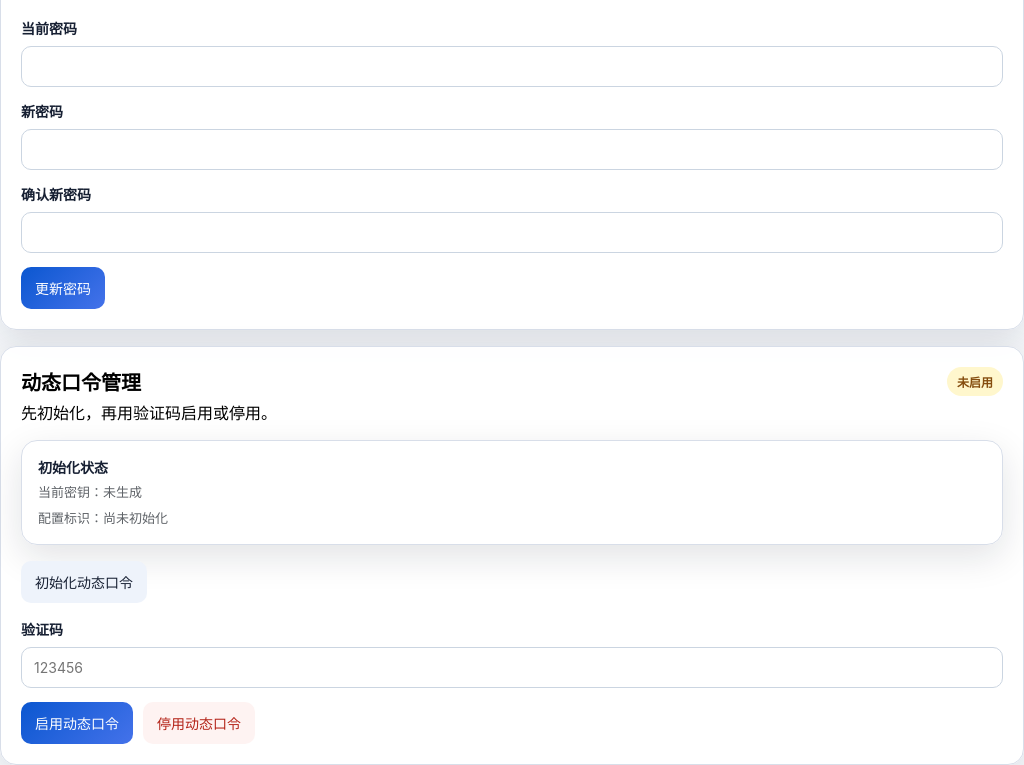
Test: AdminSecurityPage › 会通过统一弹层提交动态口令停用验证码
The width and height of the screenshot is (1024, 765).
(page scrolled)
Click the button "停用动态口令".
click(199, 723)  # box [143,702,255,744]
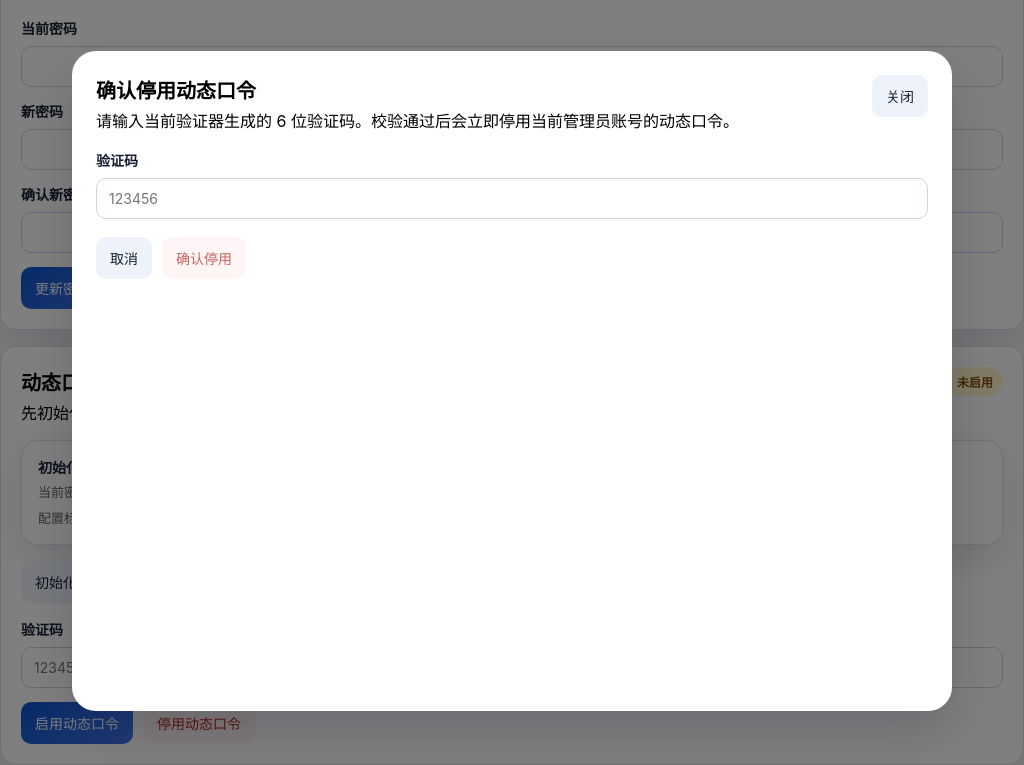
Expected: the dialog "确认停用动态口令" is shown
Type "654321" into the field with placeholder "123456".
click(512, 198); type("654321")  # box [96,178,928,219]
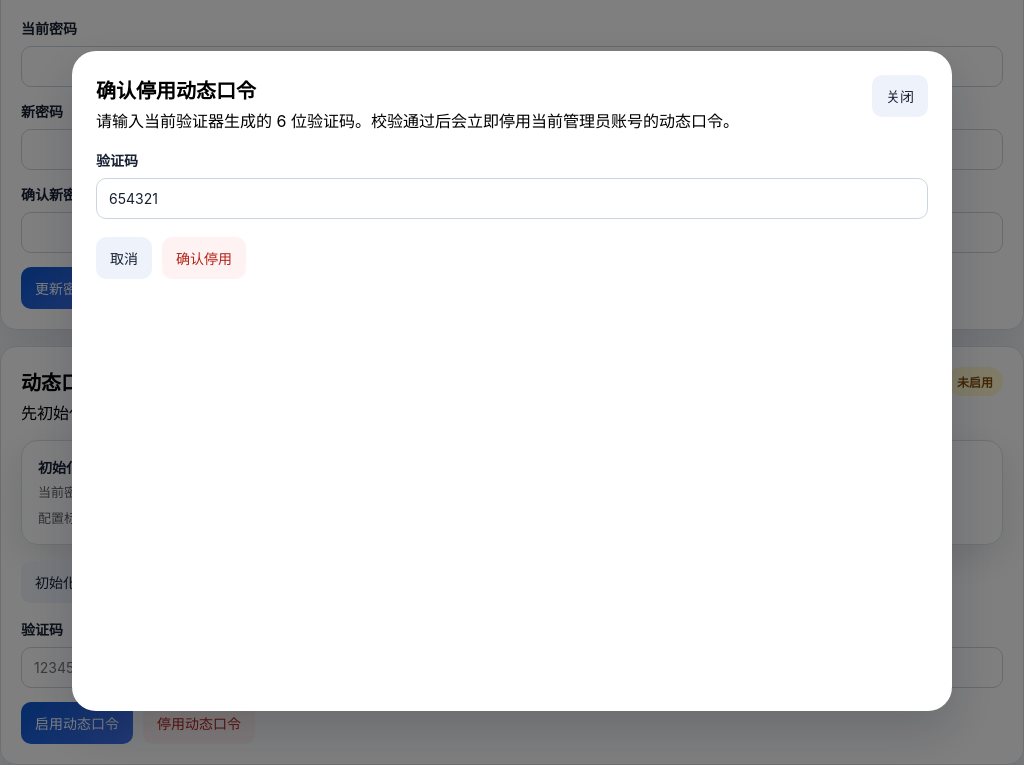
Click the button "确认停用".
click(204, 258)  # box [162,237,246,279]
(page scrolled)
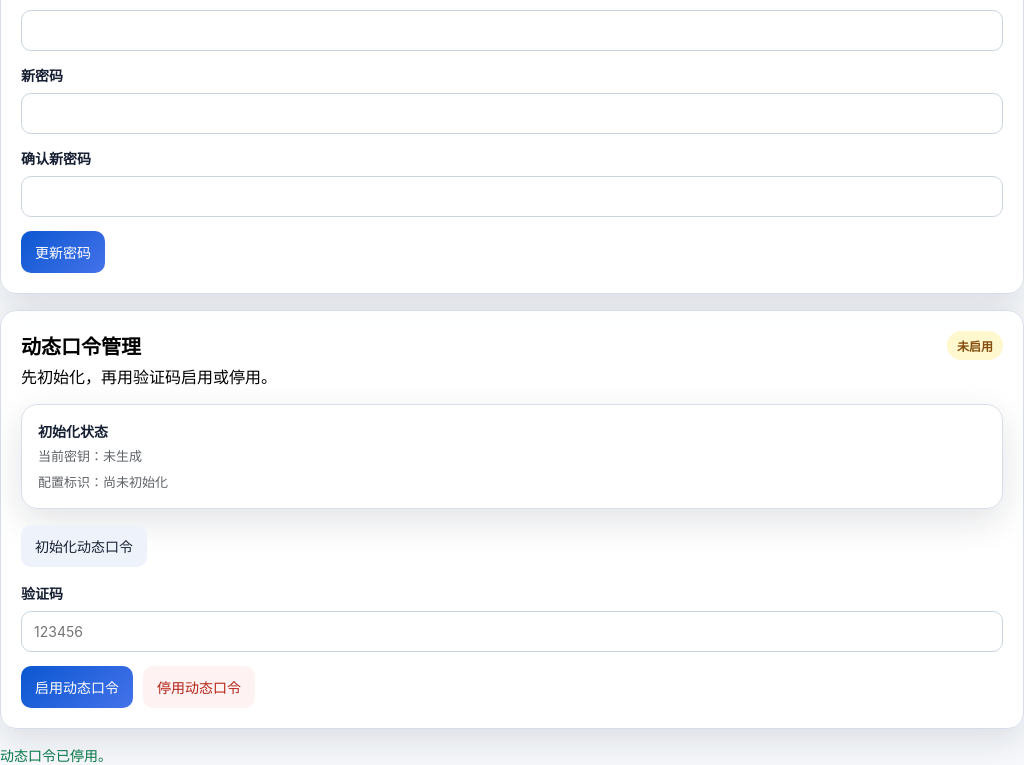
Expected: the text "动态口令已停用。" is shown, [0,747,112,764]
